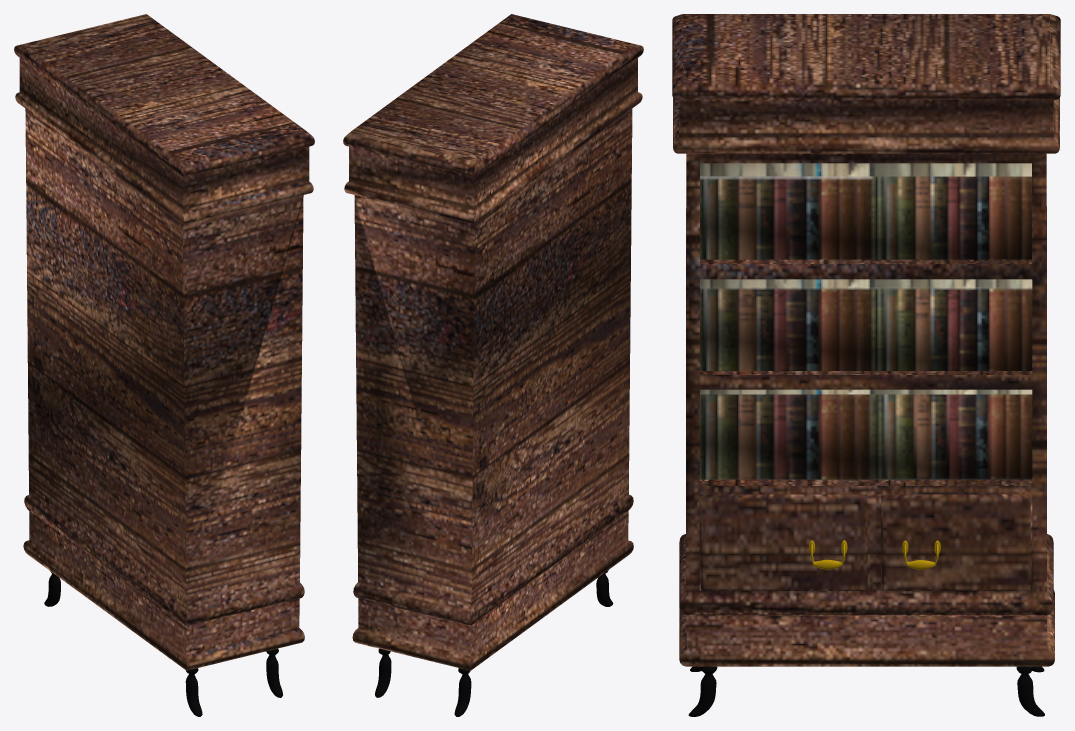
The model's file is chair.fbx.
3 views of the same model, side by side, from view 1: azimuth 30°, elevation 25°; view 2: azimuth 150°, elevation 25°; view 3: azimuth 270°, elevation 25° (orthographic). The views are drawn at different scales.
Visible parts, largest first — view 1: bookshelf_1; view 2: bookshelf_1; view 3: bookshelf_1.
Part boxes in pixels (x1,y1,x2,y2): bookshelf_1: [14, 14, 314, 716]; bookshelf_1: [343, 14, 643, 716]; bookshelf_1: [672, 14, 1060, 716].
Bounding box in the file's own units: 60.37 × 244 × 133.
1 material, 1 textured.
